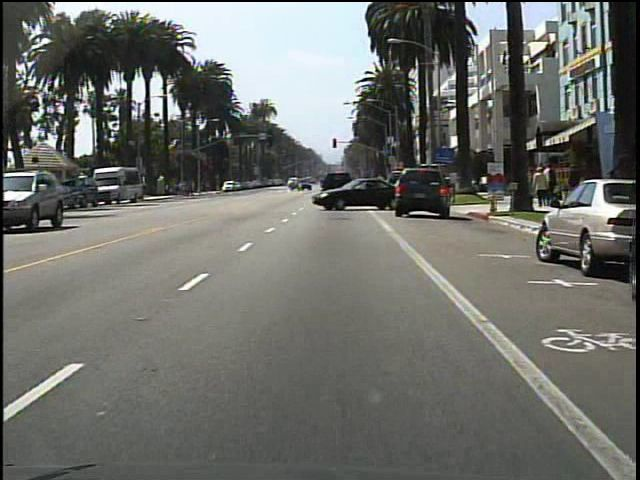person: (544, 160, 560, 209), (372, 169, 389, 207), (534, 166, 548, 209)
